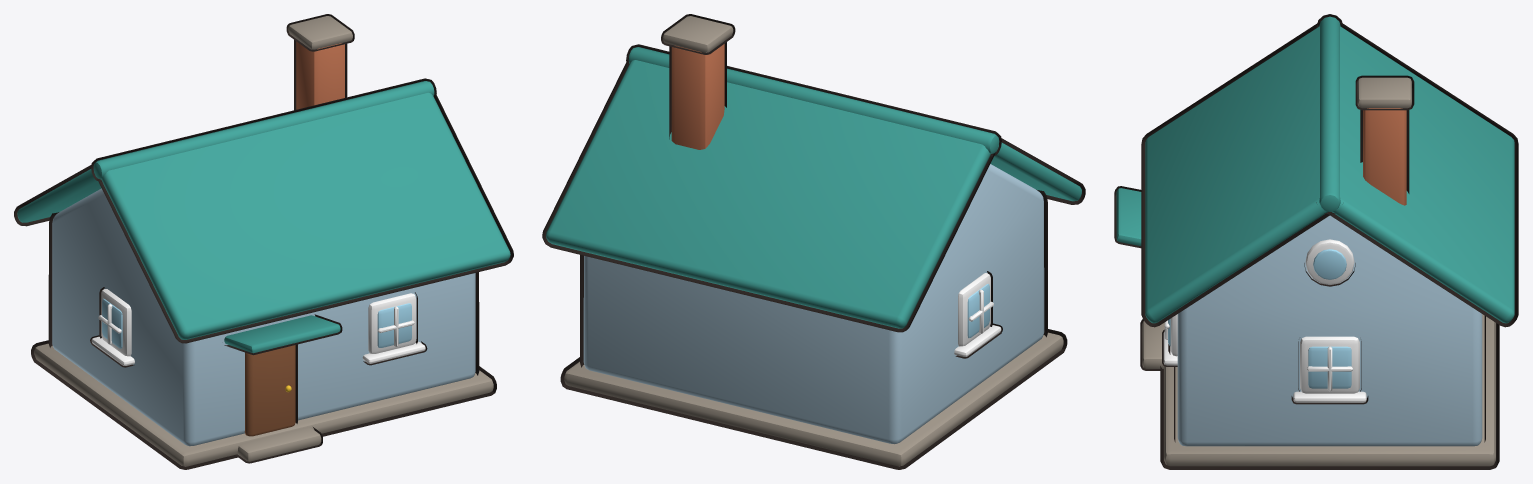
File: House_Teal.fbx
The picture shows the model from 3 angles, left to right: view 1: azimuth 30°, elevation 25°; view 2: azimuth 150°, elevation 25°; view 3: azimuth 270°, elevation 25°; orthographic projection. The views are drawn at different scales.
Visible parts, largest first — view 1: BL_House_Teal_RoofTeal, BL_House_Teal_WallBlue, BL_House_Teal_StoneDark, BL_House_Teal_Outline, BL_House_Teal_Door, BL_House_Teal_Frame, BL_House_Teal_WallBrick, BL_House_Teal_Window; view 2: BL_House_Teal_RoofTeal, BL_House_Teal_WallBlue, BL_House_Teal_StoneDark, BL_House_Teal_Outline, BL_House_Teal_WallBrick, BL_House_Teal_Frame, BL_House_Teal_Window; view 3: BL_House_Teal_RoofTeal, BL_House_Teal_WallBlue, BL_House_Teal_StoneDark, BL_House_Teal_Outline, BL_House_Teal_Frame, BL_House_Teal_WallBrick, BL_House_Teal_Window.
Part boxes in pixels (left/top/right/bottom): BL_House_Teal_RoofTeal: left=17, top=81, right=510, bottom=353; BL_House_Teal_WallBlue: left=52, top=188, right=475, bottom=446; BL_House_Teal_StoneDark: left=34, top=16, right=493, bottom=466; BL_House_Teal_Outline: left=14, top=14, right=513, bottom=469; BL_House_Teal_Door: left=244, top=345, right=295, bottom=436; BL_House_Teal_Frame: left=91, top=289, right=425, bottom=365; BL_House_Teal_WallBrick: left=296, top=41, right=344, bottom=109; BL_House_Teal_Window: left=102, top=298, right=411, bottom=348; BL_House_Teal_RoofTeal: left=546, top=47, right=1081, bottom=328; BL_House_Teal_WallBlue: left=583, top=164, right=1044, bottom=444; BL_House_Teal_StoneDark: left=564, top=16, right=1063, bottom=466; BL_House_Teal_Outline: left=542, top=14, right=1085, bottom=469; BL_House_Teal_WallBrick: left=671, top=44, right=724, bottom=149; BL_House_Teal_Frame: left=954, top=273, right=1001, bottom=356; BL_House_Teal_Window: left=967, top=284, right=989, bottom=338; BL_House_Teal_RoofTeal: left=1116, top=16, right=1514, bottom=323; BL_House_Teal_WallBlue: left=1177, top=215, right=1482, bottom=446; BL_House_Teal_StoneDark: left=1142, top=77, right=1495, bottom=466; BL_House_Teal_Outline: left=1114, top=14, right=1518, bottom=469; BL_House_Teal_Frame: left=1163, top=239, right=1366, bottom=402; BL_House_Teal_WallBrick: left=1363, top=108, right=1406, bottom=205; BL_House_Teal_Window: left=1168, top=249, right=1351, bottom=388.
Bounding box in the file's own units: 7.9 × 7.03 × 7.43.
